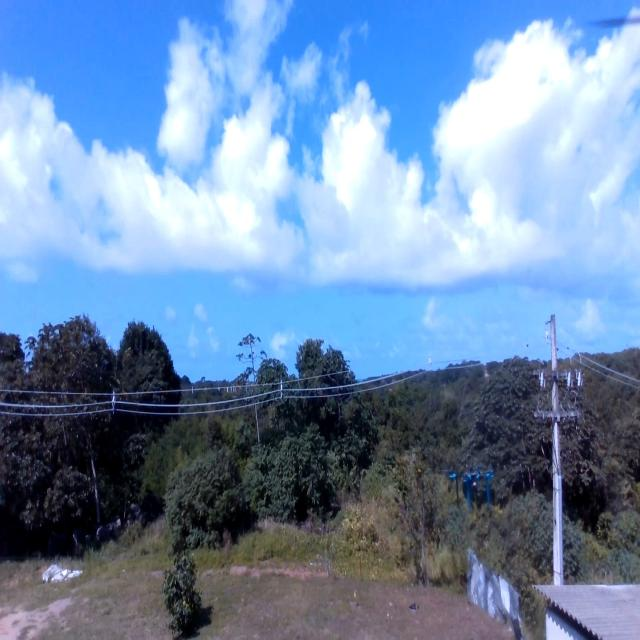-uav-: (439, 461, 514, 521)
